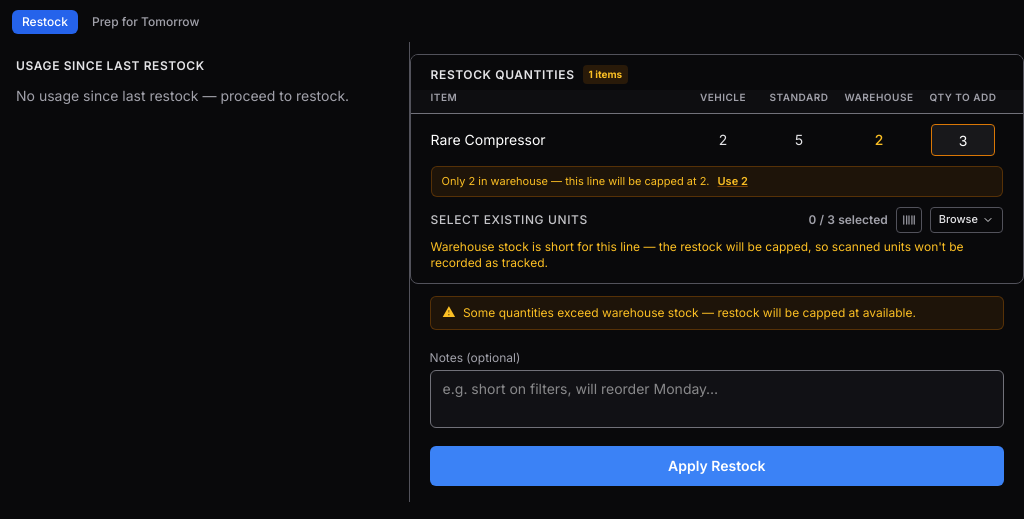
Test: RestockWorkflow — tracking capture (P8-2) › the over-limit advisory sits outside the input's cell and can fill the input
expect the message shows "Only 2 in warehouse": met, box top-left (431, 166), bottom-right (1003, 196)
Click the button "Use 2".
click(733, 181)  # box top-left (718, 173), bottom-right (748, 190)
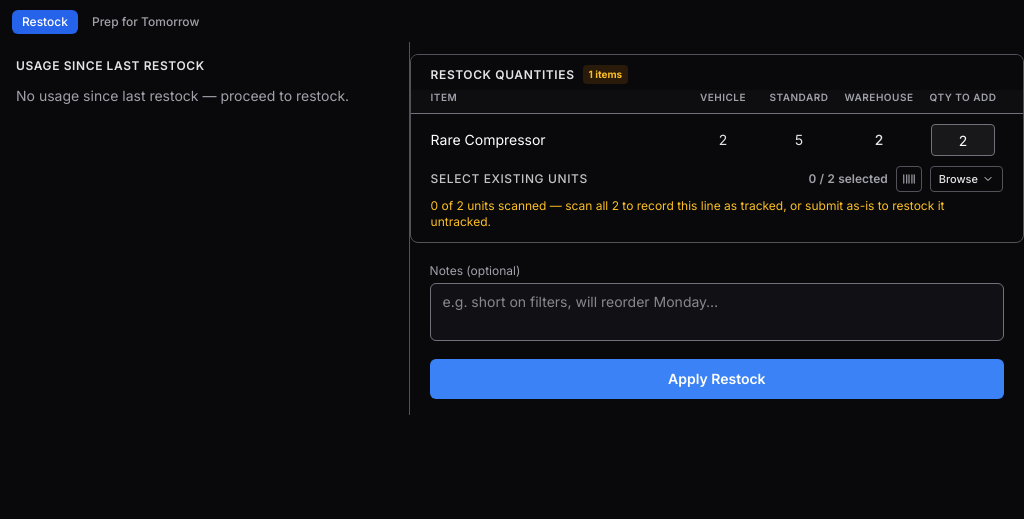
expect the number field named "Quantity to add for Rare Compressor" holds "2": met, box top-left (931, 124), bottom-right (995, 156)
expect the message "Only 2 in warehouse — this line will be capped at 2. Use 2" is gone: met
